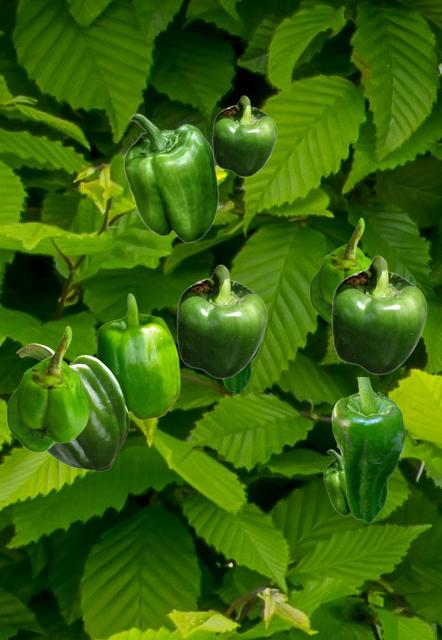bell_pepper: (16, 343, 124, 470), (123, 113, 218, 242), (331, 255, 426, 374), (331, 377, 404, 522), (96, 293, 179, 419), (6, 325, 88, 451), (176, 264, 266, 378), (309, 217, 371, 323), (212, 95, 276, 176), (222, 338, 263, 393), (323, 449, 355, 518), (123, 404, 128, 444)
